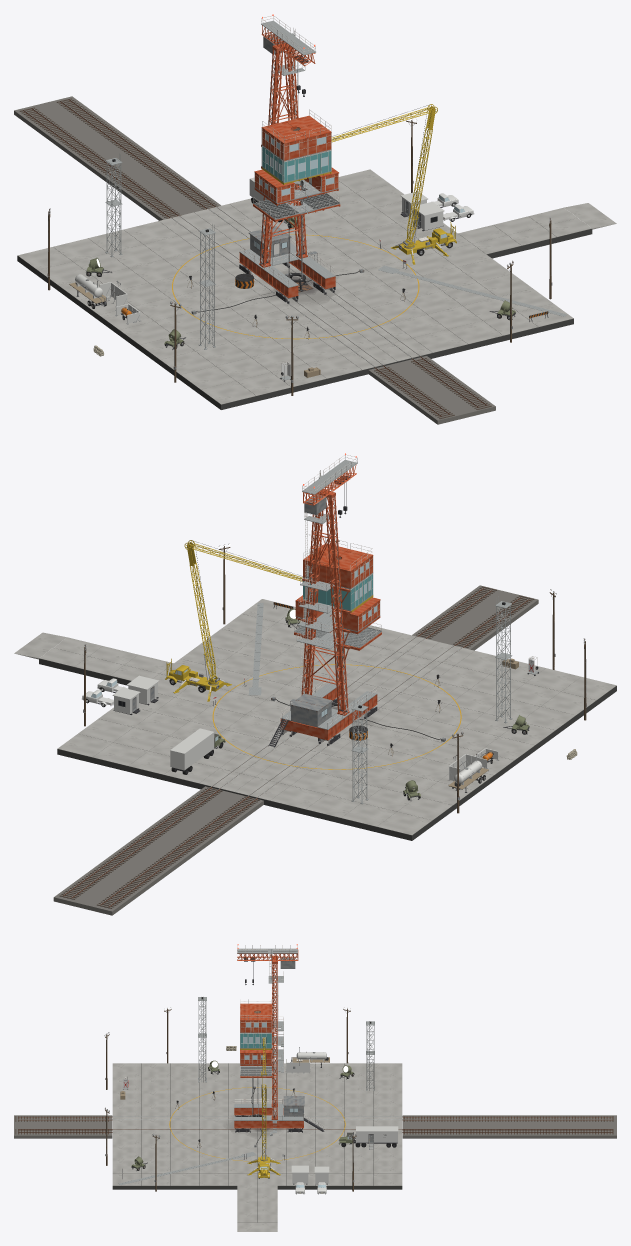
Rendered from pad.glb.
3 views of the same model, one above another, from view 1: azimuth 30°, elevation 25°; view 2: azimuth 150°, elevation 25°; view 3: azimuth 270°, elevation 25° (orthographic). The views are drawn at different scales.
Parts seen in each view (by area): view 1: Hardstand_Concrete, Hardstand_Ballast, Hardstand_Tie, ServiceStructure_Red, Hardstand_Joint, Hardstand_Rail, ServiceStructure_Deck, ServiceStructure_Platform4_Left_Red, CameraTowers_Tower1_Galv, CameraTowers_Tower2_Galv, CherryPicker_Mast_Yellow, ServiceStructure_Platform4_Right_Red (+12 smaller); view 2: Hardstand_Concrete, Hardstand_Ballast, ServiceStructure_Red, Hardstand_Tie, Hardstand_Joint, Hardstand_Rail, ServiceStructure_Deck, CameraTowers_Tower1_Galv, GroundEquipment_Trailer_TrailerVan, ServiceStructure_Grey, CameraTowers_Tower2_Galv, ServiceStructure_Platform4_Left_Red (+10 smaller); view 3: Hardstand_Concrete, Hardstand_Ballast, Hardstand_Rail, ServiceStructure_Red, Hardstand_Joint, Hardstand_Tie, ServiceStructure_Deck, ServiceStructure_Grey, GroundEquipment_Trailer_TrailerVan, ServiceStructure_Platform4_Right_Red, CameraTowers_Tower1_Galv, ServiceStructure_Platform2_Right_Red (+4 smaller).
Part boxes in pixels (x1,y1,x2,y2): Hardstand_Concrete: (18,169,591,404); Hardstand_Ballast: (14,96,495,424); Hardstand_Tie: (19,98,491,419); ServiceStructure_Red: (239,25,335,298); Hardstand_Joint: (17,211,592,409); Hardstand_Rail: (23,99,486,416); ServiceStructure_Deck: (239,20,335,287); ServiceStructure_Platform4_Left_Red: (261,121,307,160); CameraTowers_Tower1_Galv: (199,228,215,349); CameraTowers_Tower2_Galv: (105,158,122,257); CherryPicker_Mast_Yellow: (407,104,437,240); ServiceStructure_Platform4_Right_Red: (286,115,331,154); Hardstand_Concrete: (39,599,616,835); Hardstand_Ballast: (53,585,538,915); ServiceStructure_Red: (280,464,377,740); Hardstand_Tie: (59,586,534,908); Hardstand_Joint: (39,637,616,840); Hardstand_Rail: (63,587,528,907); ServiceStructure_Deck: (280,460,376,729); CameraTowers_Tower1_Galv: (495,601,512,723); GroundEquipment_Trailer_TrailerVan: (170,728,214,770); ServiceStructure_Grey: (289,494,375,741); CameraTowers_Tower2_Galv: (351,704,368,804); ServiceStructure_Platform4_Left_Red: (327,549,373,588); Hardstand_Concrete: (112,1063,402,1222); Hardstand_Ballast: (14,1115,616,1138); Hardstand_Rail: (18,1116,612,1132); ServiceStructure_Red: (234,950,303,1128); Hardstand_Joint: (112,1063,402,1222); Hardstand_Tie: (15,1116,613,1134); ServiceStructure_Deck: (234,948,303,1135); ServiceStructure_Grey: (239,957,304,1131); GroundEquipment_Trailer_TrailerVan: (356,1126,398,1143); ServiceStructure_Platform4_Right_Red: (240,1012,271,1032); CameraTowers_Tower1_Galv: (198,997,206,1082); ServiceStructure_Platform2_Right_Red: (240,1049,271,1065).
Size of the model in its own units: 90.64 by 42.38 by 127.
58 materials, 15 textured.
